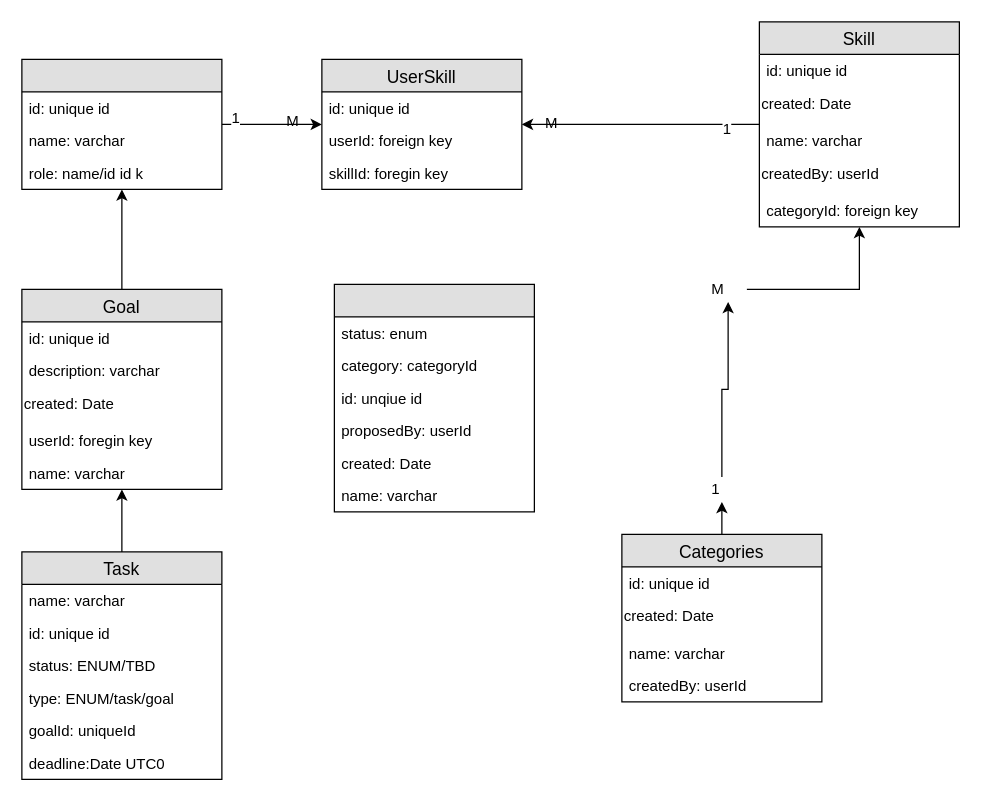
The diagram is 981 pixels wide and 805 high, and some of its shapes have lost their labels. Here are the shapes that lost their labels. From the top down, the box of each, then its label:
(21, 58, 222, 189): User
(333, 283, 534, 512): ProposedSkills
